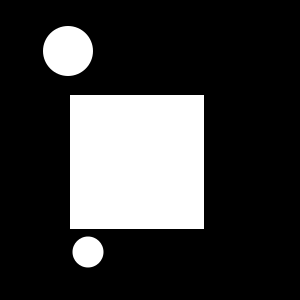circle: (70, 95, 204, 229)
rectangle: (43, 26, 93, 76), (72, 236, 103, 268)
